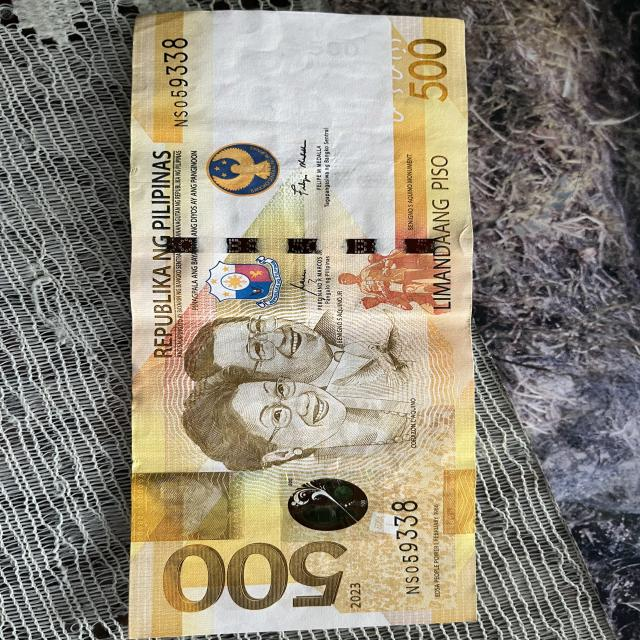concealed_value: (132, 471, 244, 540)
optically_variable_device: (284, 475, 372, 533)
security_thread: (127, 233, 475, 256)
see_through_mark: (382, 34, 408, 128)
serial_number: (150, 30, 210, 142), (381, 490, 432, 602)
value: (162, 538, 346, 610)
value_watermark: (305, 37, 361, 59)
